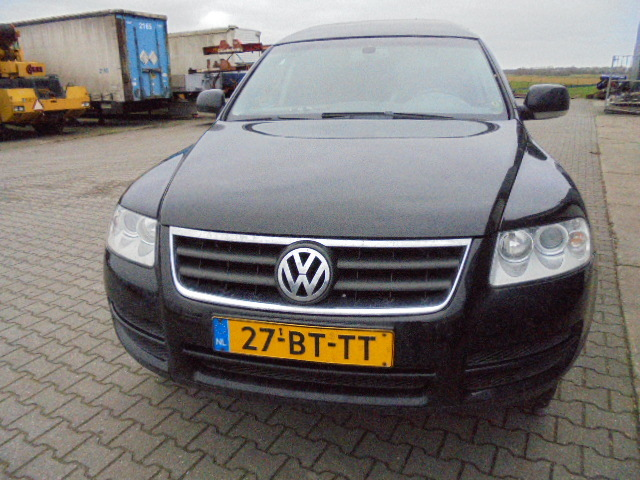kenteken: (211, 316, 393, 373)
